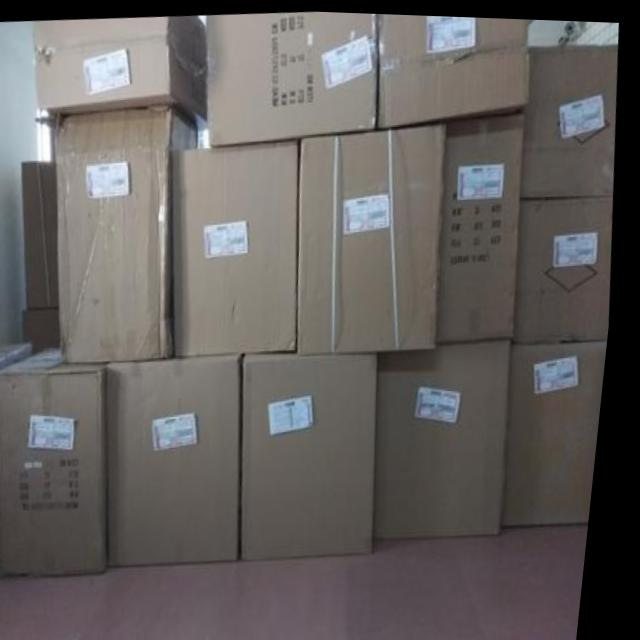box: (56, 98, 202, 359), (304, 118, 446, 349), (175, 136, 307, 359), (114, 353, 251, 564), (250, 350, 387, 559), (384, 337, 519, 533), (6, 345, 114, 575), (206, 10, 378, 146), (31, 15, 215, 132), (512, 331, 613, 524), (441, 109, 523, 339), (374, 11, 528, 124), (523, 40, 616, 196), (520, 189, 614, 334), (0, 339, 34, 563), (26, 160, 62, 306), (28, 307, 66, 355)
